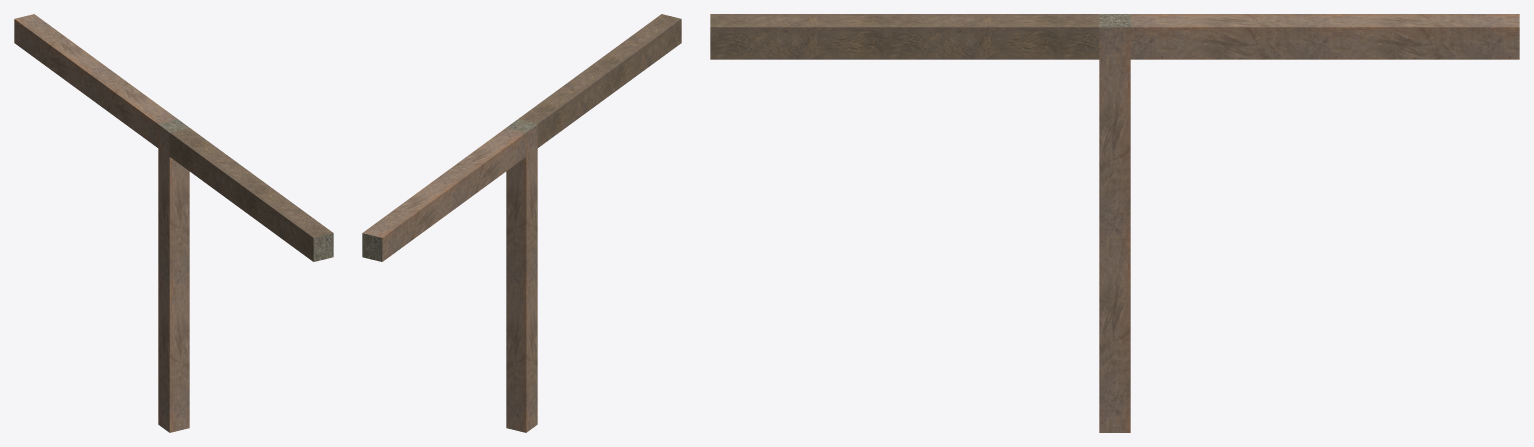
The model's file is WoodCenterScaffoldC.fbx.
3 views of the same model, side by side, from view 1: azimuth 30°, elevation 25°; view 2: azimuth 150°, elevation 25°; view 3: azimuth 270°, elevation 25° (orthographic). The views are drawn at different scales.
Parts seen in each view (by area): view 1: WoodCenterScaffoldC; view 2: WoodCenterScaffoldC; view 3: WoodCenterScaffoldC.
Part boxes in pixels (x1=…): WoodCenterScaffoldC: x1=14, y1=14, x2=333, y2=432; WoodCenterScaffoldC: x1=362, y1=14, x2=681, y2=432; WoodCenterScaffoldC: x1=710, y1=14, x2=1519, y2=432.
Size of the model in its own units: 30.09 by 431 by 778.
